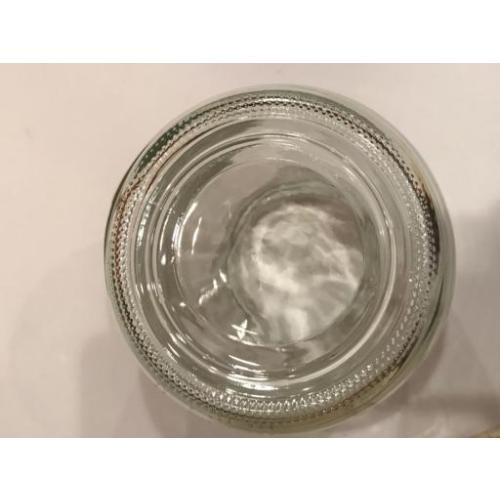glass: (110, 88, 454, 434)
